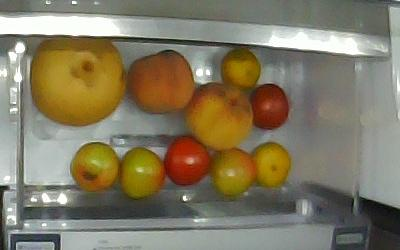peach: (126, 48, 194, 113), (185, 83, 251, 149)
pear: (27, 37, 124, 127)
tangerine: (250, 142, 289, 186), (220, 48, 260, 90)
tomato: (70, 142, 119, 193), (164, 135, 211, 186), (209, 148, 253, 197), (119, 148, 162, 198), (251, 84, 289, 129)
